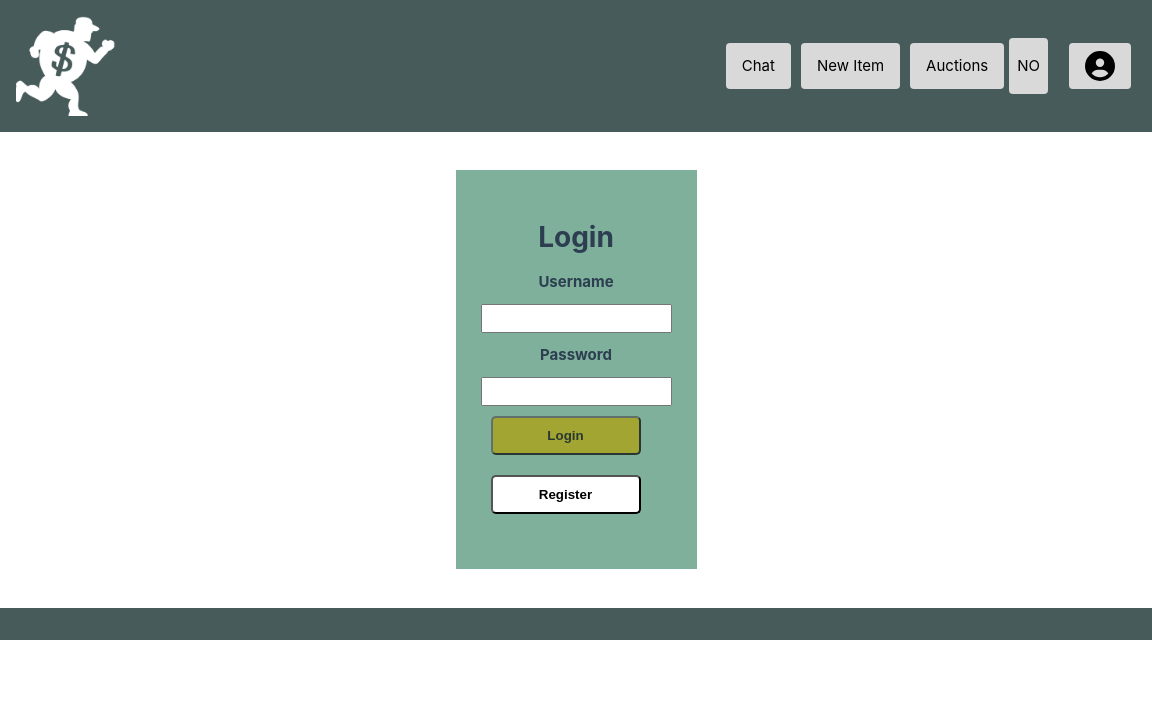
Login Component › should allow a user to login successfully
Type "tomaber" into the field with id "usernameInput" at [577, 319], box top-left (481, 304), bottom-right (672, 333)
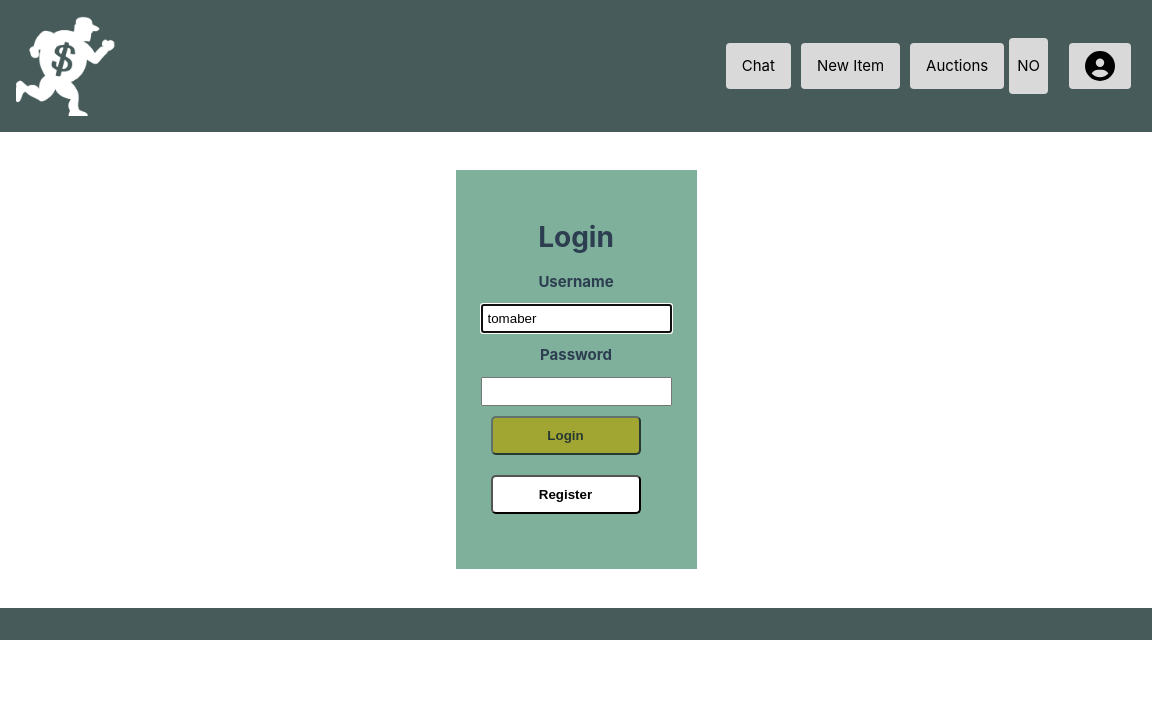
Type "123123123" into the password field labelled "Password" at [577, 392], box top-left (481, 377), bottom-right (672, 406)
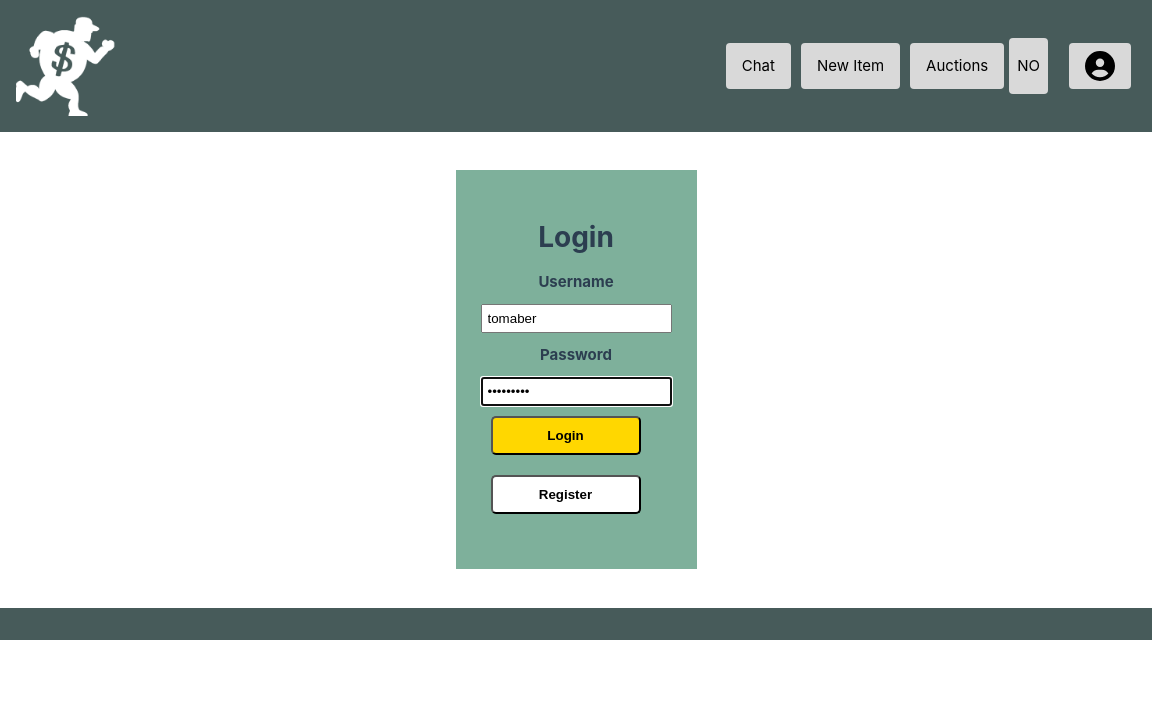
Check: the button with id "submit_button" is enabled, box top-left (491, 416), bottom-right (641, 455)
